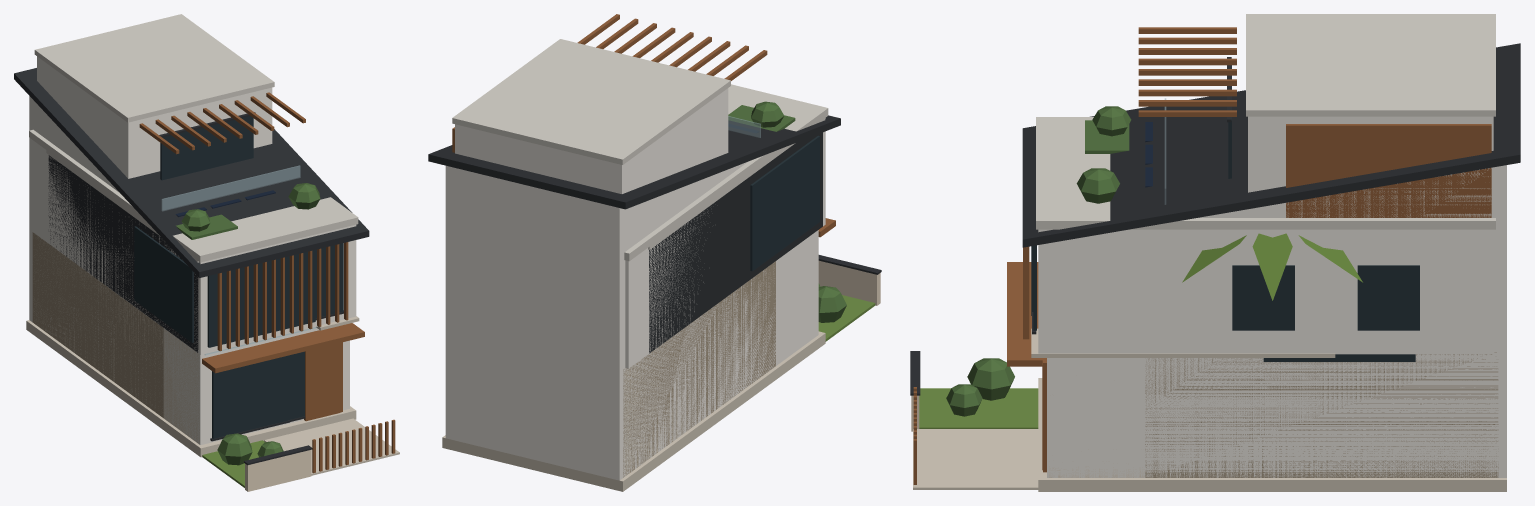
The model's file is kit.glb.
The picture shows the model from 3 angles, left to right: view 1: azimuth 30°, elevation 25°; view 2: azimuth 150°, elevation 25°; view 3: azimuth 270°, elevation 25°; orthographic projection. The views are drawn at different scales.
Parts seen in each view (by area): view 1: home-c-charcoal, home-d-concrete, home-b-stone, home-b-glass, home-a-render, home-b-charcoal, home-a-teak, home-d-render, home-c-render, home-a-paving, home-a-concrete, home-c-teak (+12 smaller); view 2: home-c-render, home-d-concrete, home-b-stone, home-b-charcoal, home-d-render, home-c-charcoal, home-b-glass, home-a-paving, home-a-render, home-a-concrete, home-d-teak, home-a-render-warm (+6 smaller); view 3: home-c-render, home-a-render, home-d-concrete, home-c-charcoal, home-b-stone, home-b-teak, home-a-paving, home-a-concrete, home-a-glass, home-d-teak, home-d-render, home-a-leaf (+7 smaller).
Part boxes in pixels (<box>): home-c-charcoal: <box>14,68,369,441</box>; home-d-concrete: <box>34,14,274,122</box>; home-b-stone: <box>32,232,163,417</box>; home-b-glass: <box>134,226,315,347</box>; home-a-render: <box>31,139,356,354</box>; home-b-charcoal: <box>48,155,198,352</box>; home-a-teak: <box>217,242,395,473</box>; home-d-render: <box>37,56,272,329</box>; home-c-render: <box>29,96,349,445</box>; home-a-paving: <box>26,320,399,475</box>; home-a-concrete: <box>29,129,358,262</box>; home-c-teak: <box>202,323,364,421</box>; home-c-render: <box>445,161,818,480</box>; home-d-concrete: <box>452,39,730,164</box>; home-b-stone: <box>623,261,775,477</box>; home-b-charcoal: <box>649,132,822,353</box>; home-d-render: <box>455,88,728,370</box>; home-c-charcoal: <box>428,115,840,209</box>; home-b-glass: <box>750,135,819,271</box>; home-a-paving: <box>442,331,825,491</box>; home-a-render: <box>625,118,825,368</box>; home-a-concrete: <box>624,84,828,261</box>; home-d-teak: <box>577,14,767,80</box>; home-a-render-warm: <box>818,260,880,305</box>; home-c-render: <box>1047,165,1506,477</box>; home-a-render: <box>1038,229,1493,354</box>; home-d-concrete: <box>1246,14,1495,116</box>; home-c-charcoal: <box>1022,43,1520,247</box>; home-b-stone: <box>1145,352,1498,477</box>; home-b-teak: <box>1286,124,1491,217</box>; home-a-paving: <box>913,378,1506,491</box>; home-a-concrete: <box>1036,117,1495,229</box>; home-a-glass: <box>1033,245,1419,330</box>; home-d-teak: <box>1043,27,1236,472</box>; home-d-render: <box>1248,116,1495,316</box>; home-a-leaf: <box>946,106,1131,416</box>.
Size of the model in its own units: 7.35 by 9.36 by 13.66.
